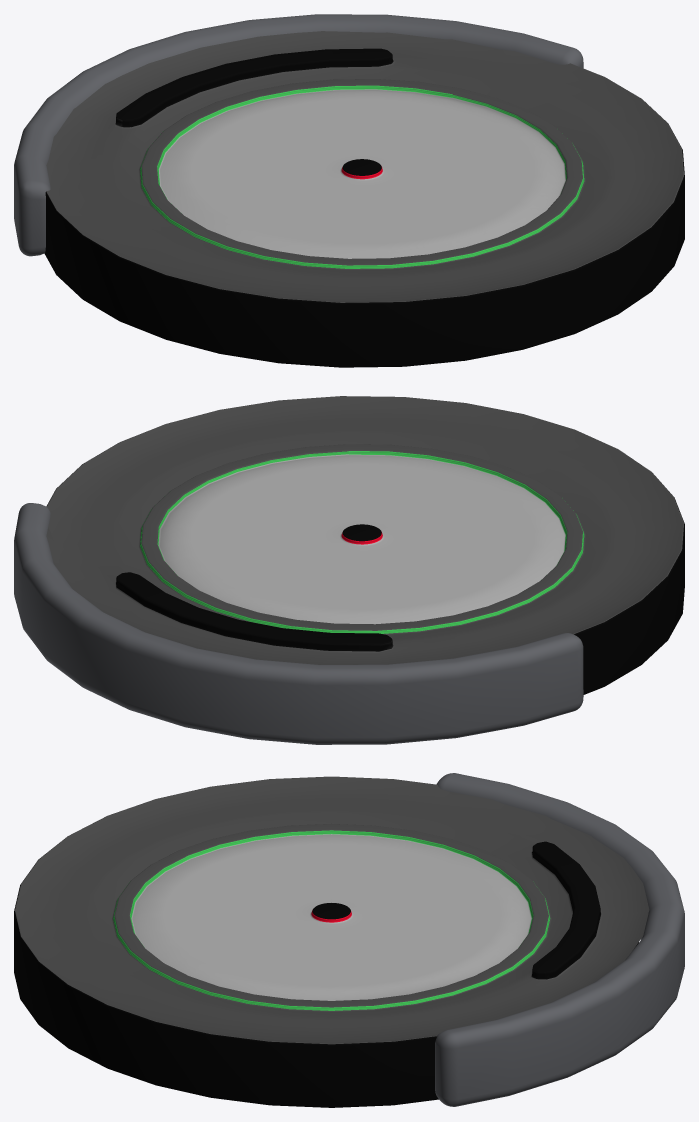
The model's file is Roomba.fbx.
3 renders of one model, top to bottom at view 1: azimuth 30°, elevation 25°; view 2: azimuth 150°, elevation 25°; view 3: azimuth 270°, elevation 25°, orthographic.
Visible parts, largest first — view 1: Circle, Circle.001; view 2: Circle, Circle.001; view 3: Circle, Circle.001.
Part boxes in pixels (<box>): Circle: <box>44,31,684,367</box>; Circle.001: <box>14,14,583,256</box>; Circle: <box>46,396,684,694</box>; Circle.001: <box>14,503,583,744</box>; Circle: <box>14,776,649,1107</box>; Circle.001: <box>435,773,684,1106</box>.
Bounding box in the file's own units: 200 × 25.39 × 211.
Materials: 2 (1 with a texture image).
